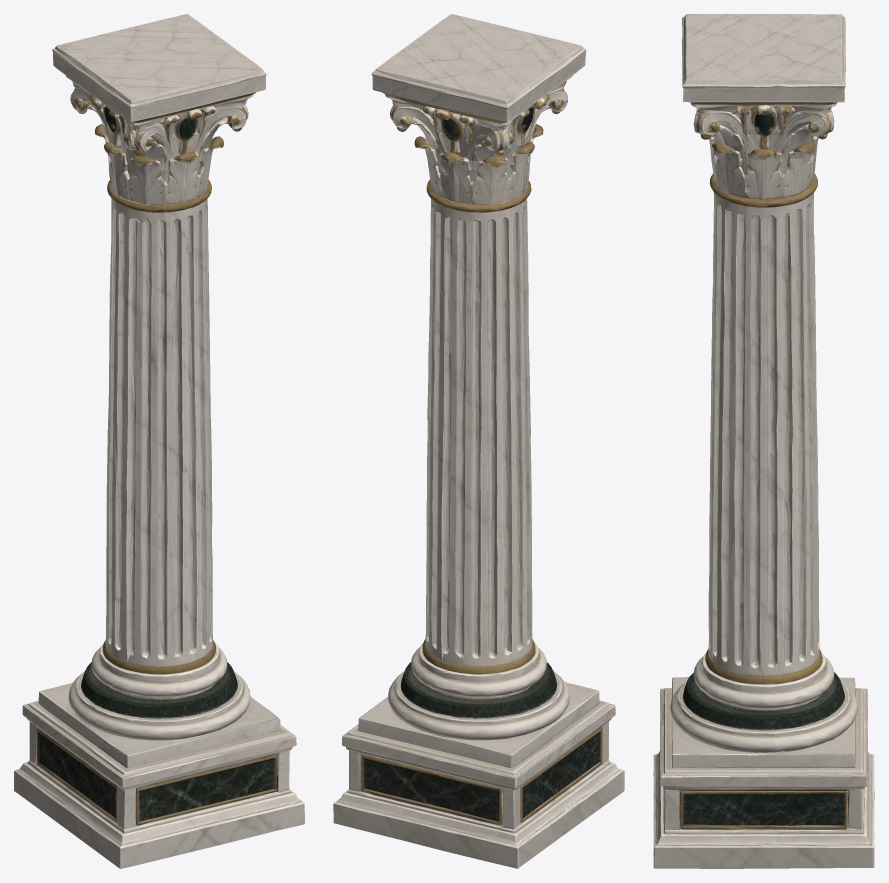
The model's file is gilded-column.glb.
The picture shows the model from 3 angles, left to right: view 1: azimuth 30°, elevation 25°; view 2: azimuth 150°, elevation 25°; view 3: azimuth 270°, elevation 25°; orthographic projection. The views are drawn at different scales.
Visible parts, largest first — view 1: gilded_column_mesh; view 2: gilded_column_mesh; view 3: gilded_column_mesh.
Boxes of the visible parts, x1,y1,x2,y2 form: gilded_column_mesh: (14, 14, 304, 868); gilded_column_mesh: (333, 14, 624, 868); gilded_column_mesh: (653, 14, 874, 868).
Bounding box in the file's own units: 0.7739 × 3 × 0.7745.
1 material, 1 textured.
